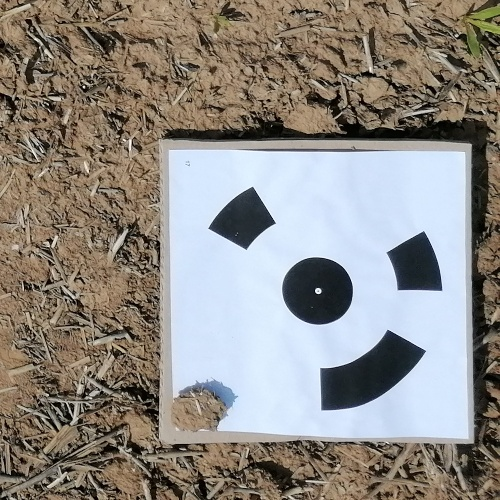beet: (456, 7, 500, 62), (206, 15, 230, 29)
